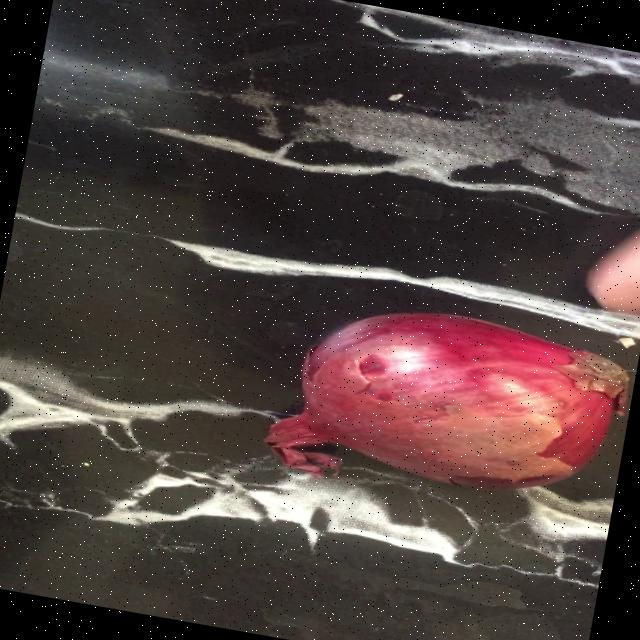Onion: (264, 312, 629, 488)
